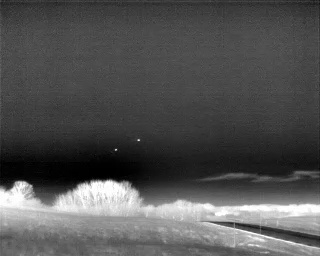BIRD: (135, 136, 142, 144)
